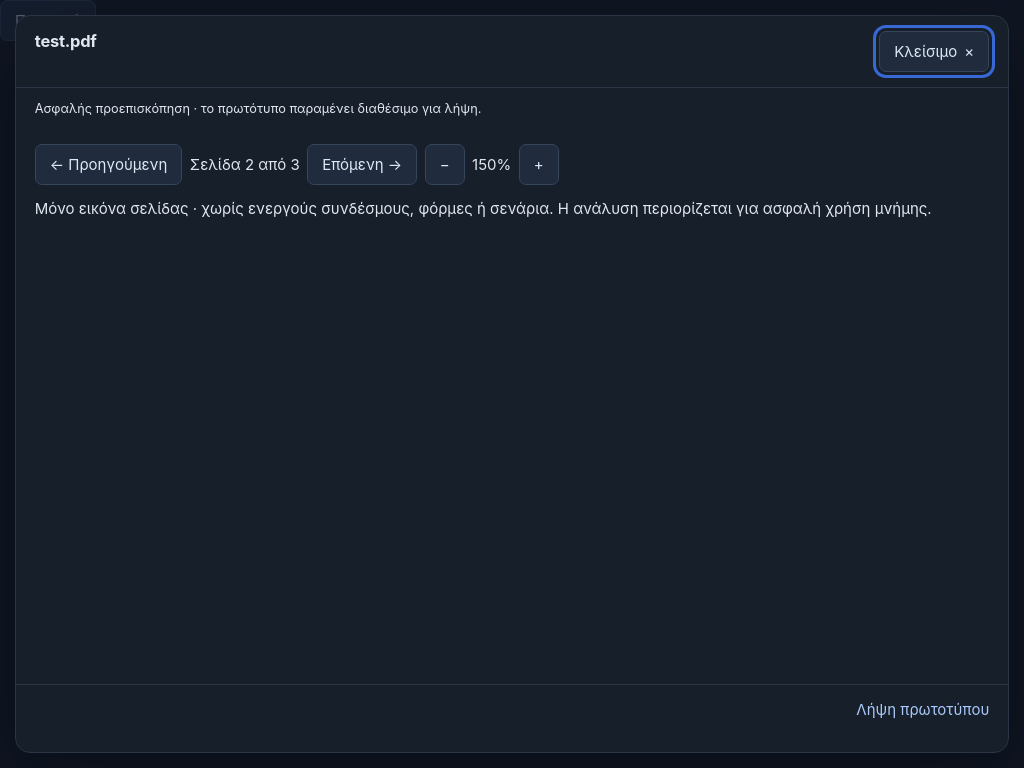
Test: PDF preview controls and lifecycle › renders one page at a time with previous/next/count and bounded zoom, then destroys on close
Earlier steps of the test are not shown.
Later steps or results of the test are not shown.
Check: the message does not show "Απόδοση", box [190,153,300,176]
Click the button named "Μεγέθυνση". click: x=539, y=165
box: [519,144,559,185]
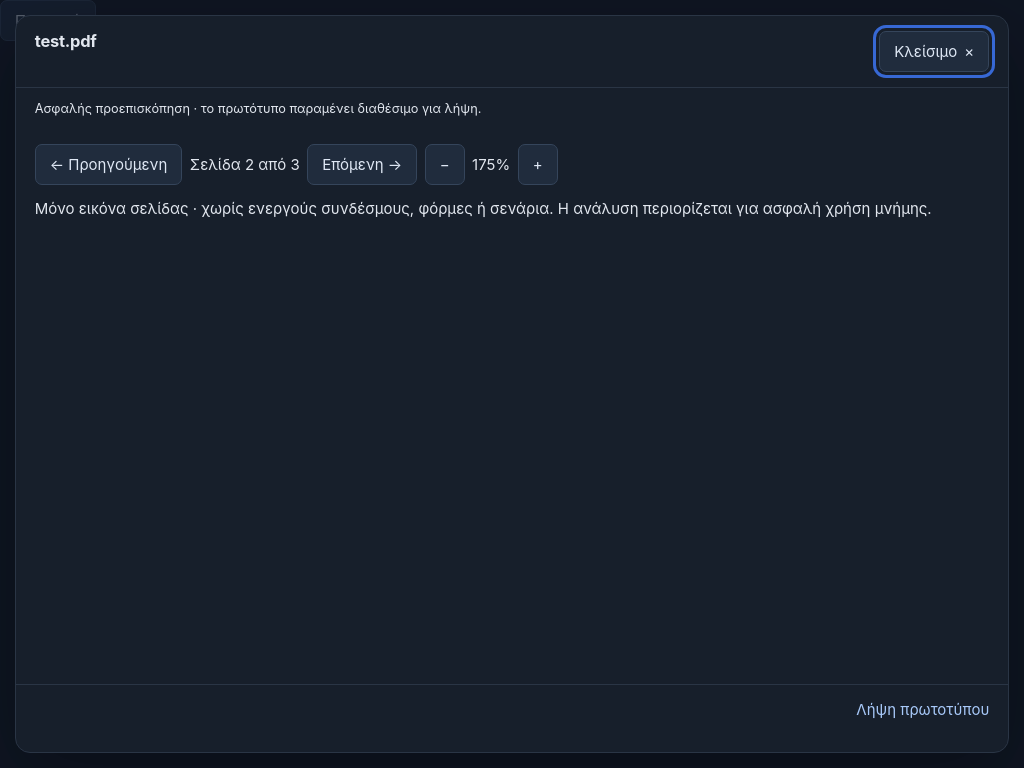
Check: the message does not show "Απόδοση", box [190,153,300,176]
Click the button named "Μεγέθυνση". click: x=538, y=165
box: [518,144,558,185]
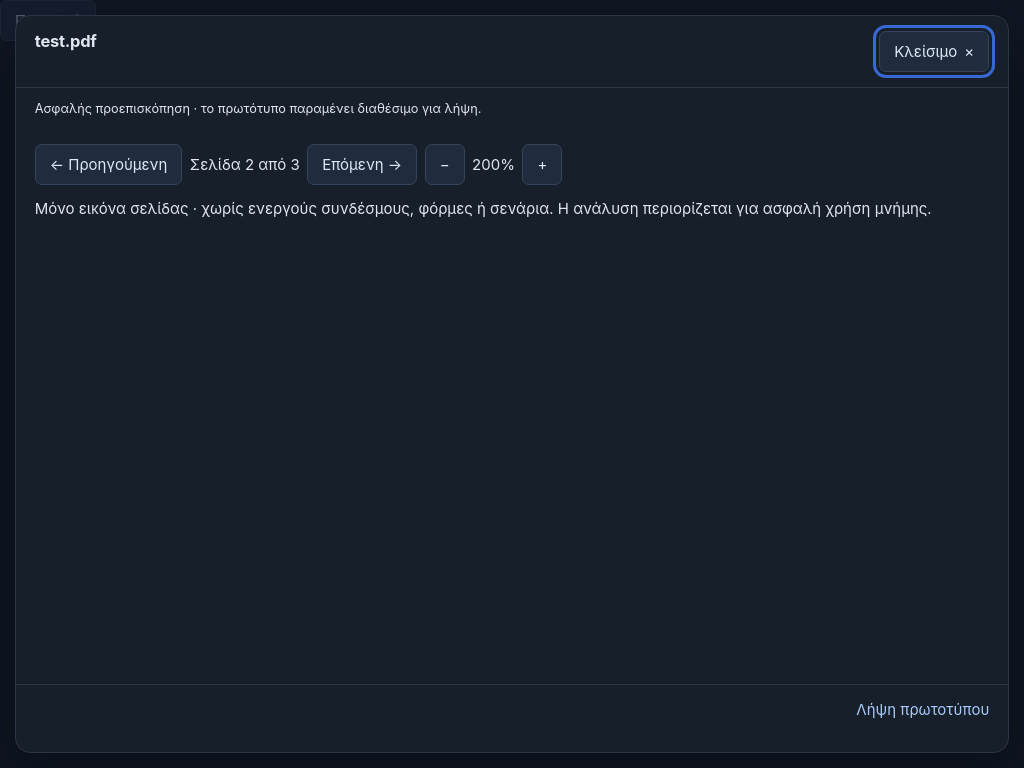
Check: the message does not show "Απόδοση", box [190,153,300,176]
Click the button named "Μεγέθυνση". click: x=542, y=165
box: [522,144,562,185]
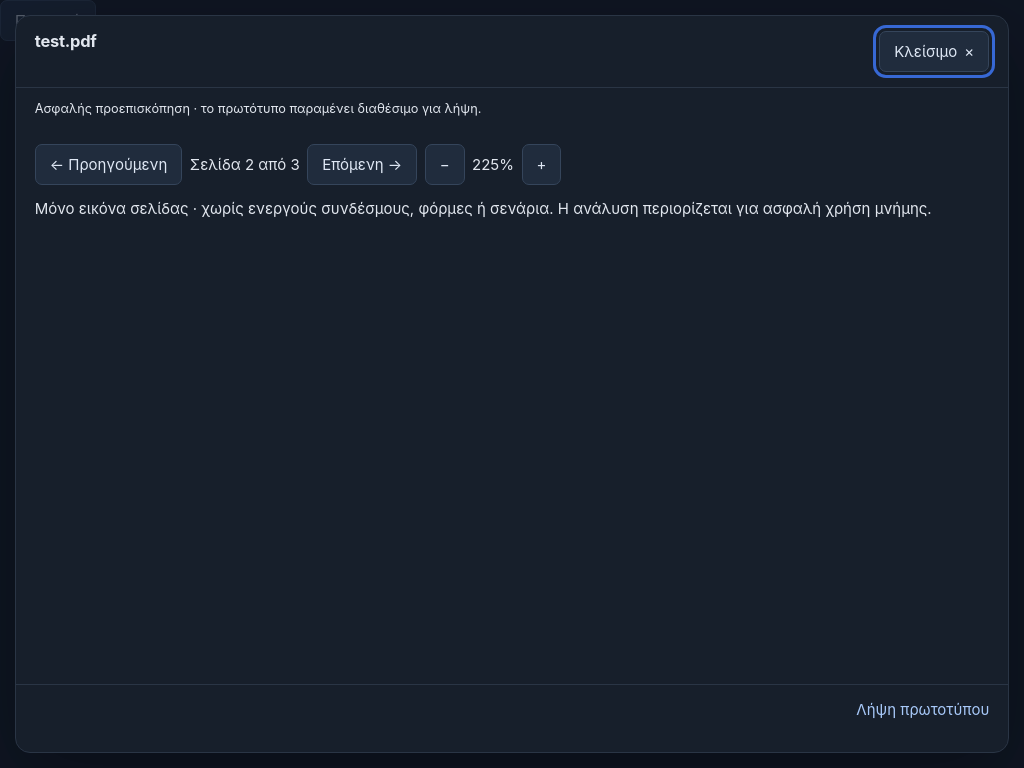
Check: the message does not show "Απόδοση", box [190,153,300,176]
Click the button named "Μεγέθυνση". click: x=541, y=165
box: [522,144,561,185]
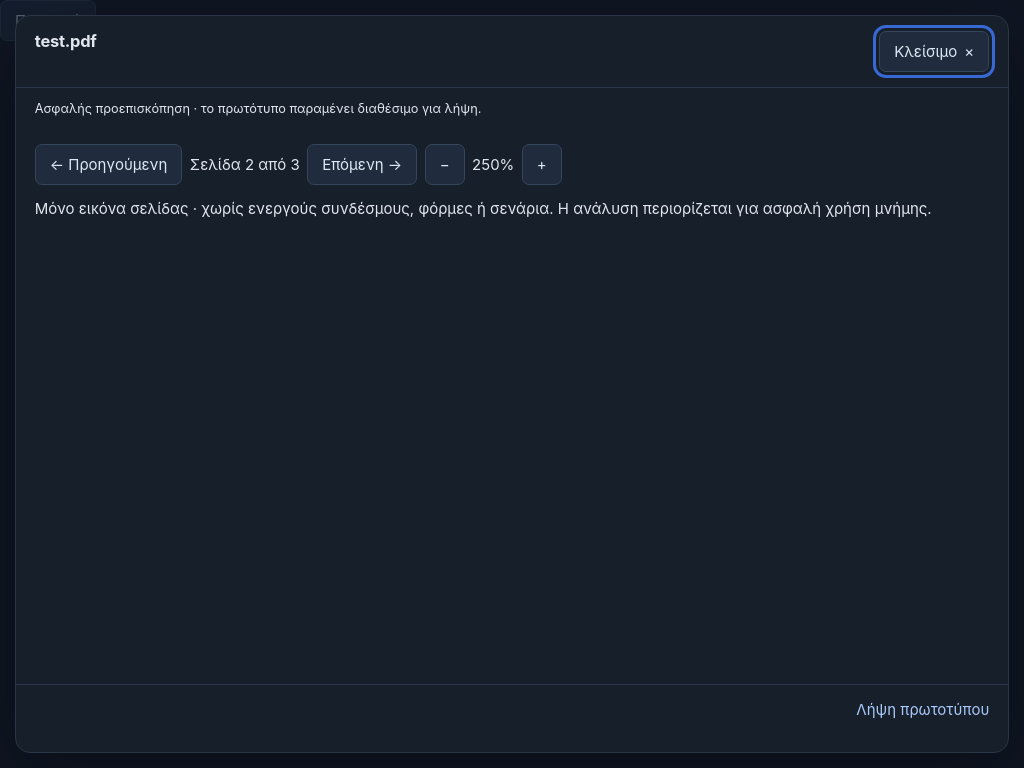
Check: the message does not show "Απόδοση", box [190,153,300,176]
Click the button named "Μεγέθυνση". click: x=542, y=165
box: [522,144,562,185]
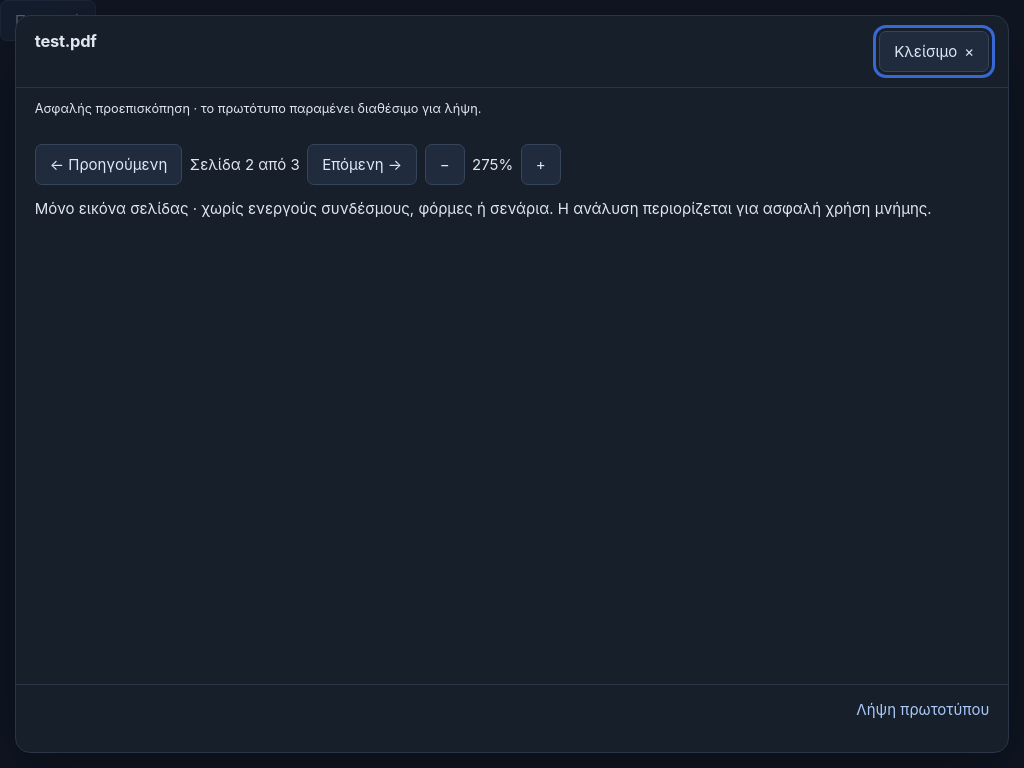
Check: the message does not show "Απόδοση", box [190,153,300,176]
Click the button named "Μεγέθυνση". click: x=541, y=165
box: [521,144,561,185]
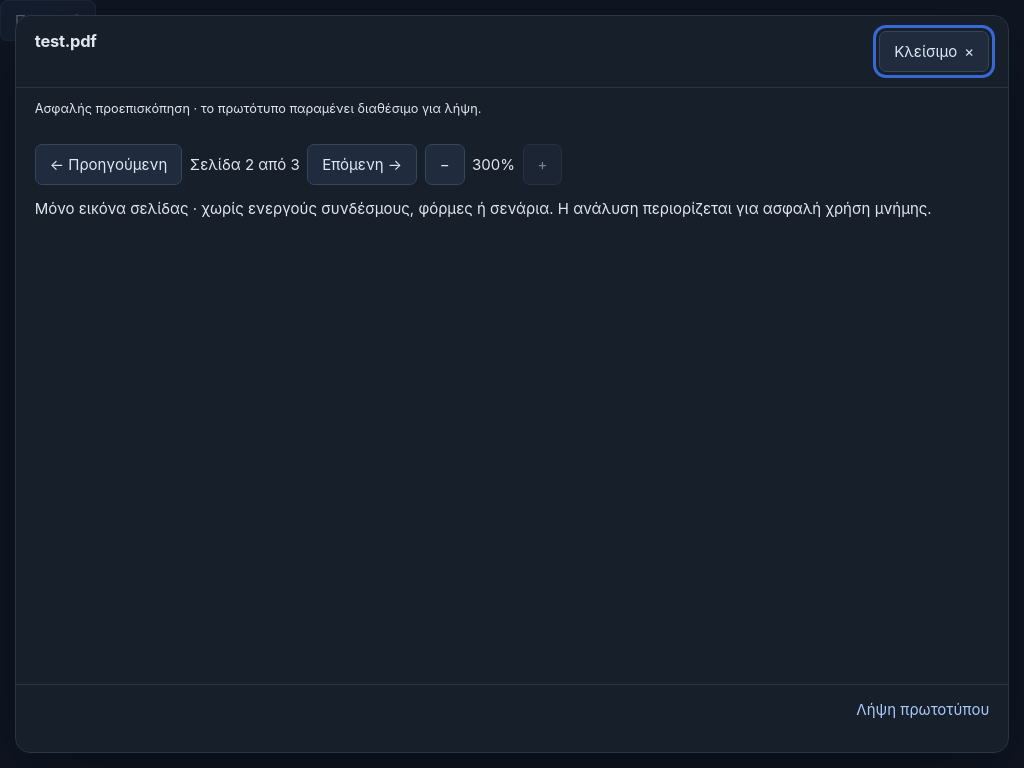
Check: the message does not show "Απόδοση", box [190,153,300,176]
Check: the button named "Μεγέθυνση" is disabled, box [522,144,562,185]
